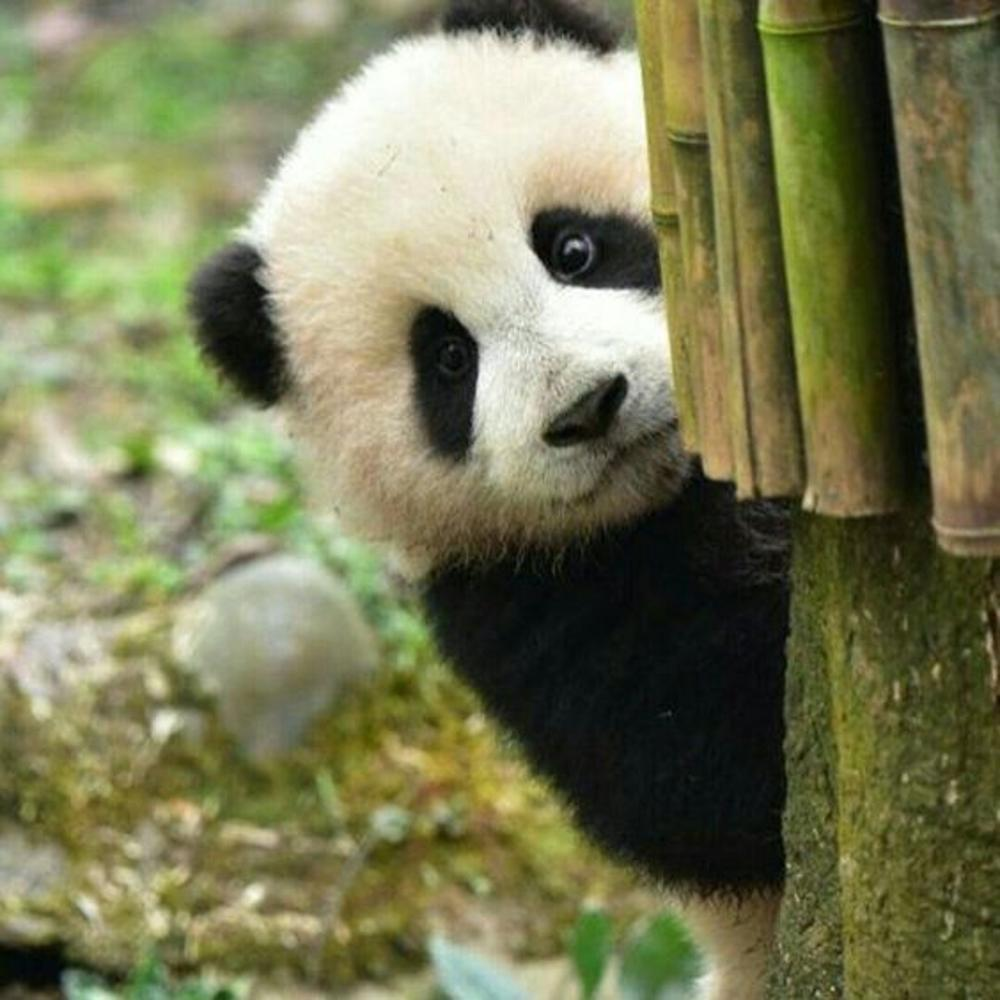panda: (200, 6, 828, 895)
